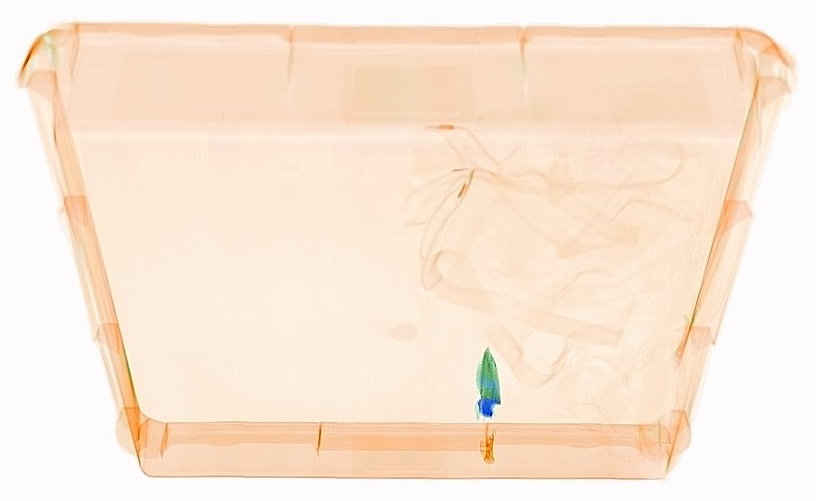Knife: (469, 342, 505, 469)
